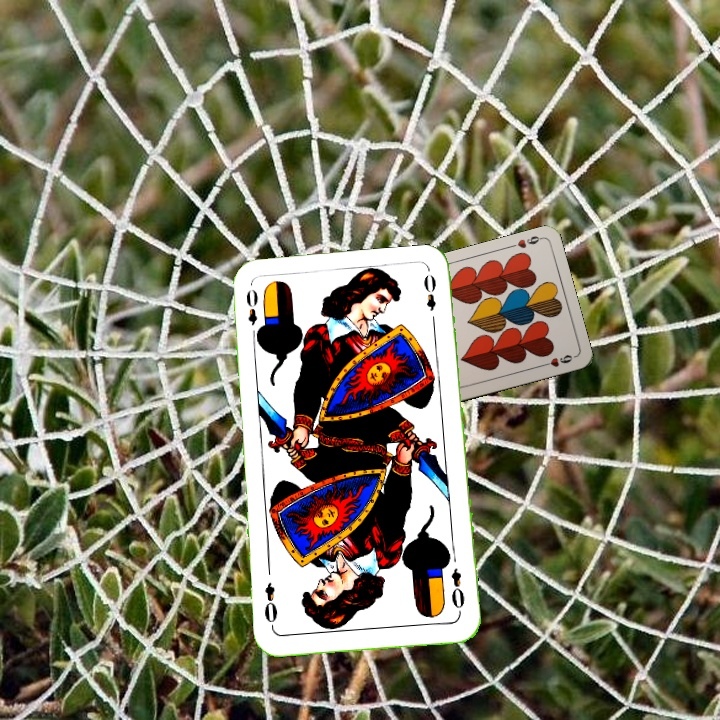EO: (242, 285, 264, 342), (447, 564, 467, 617)
H9: (504, 232, 545, 251)
